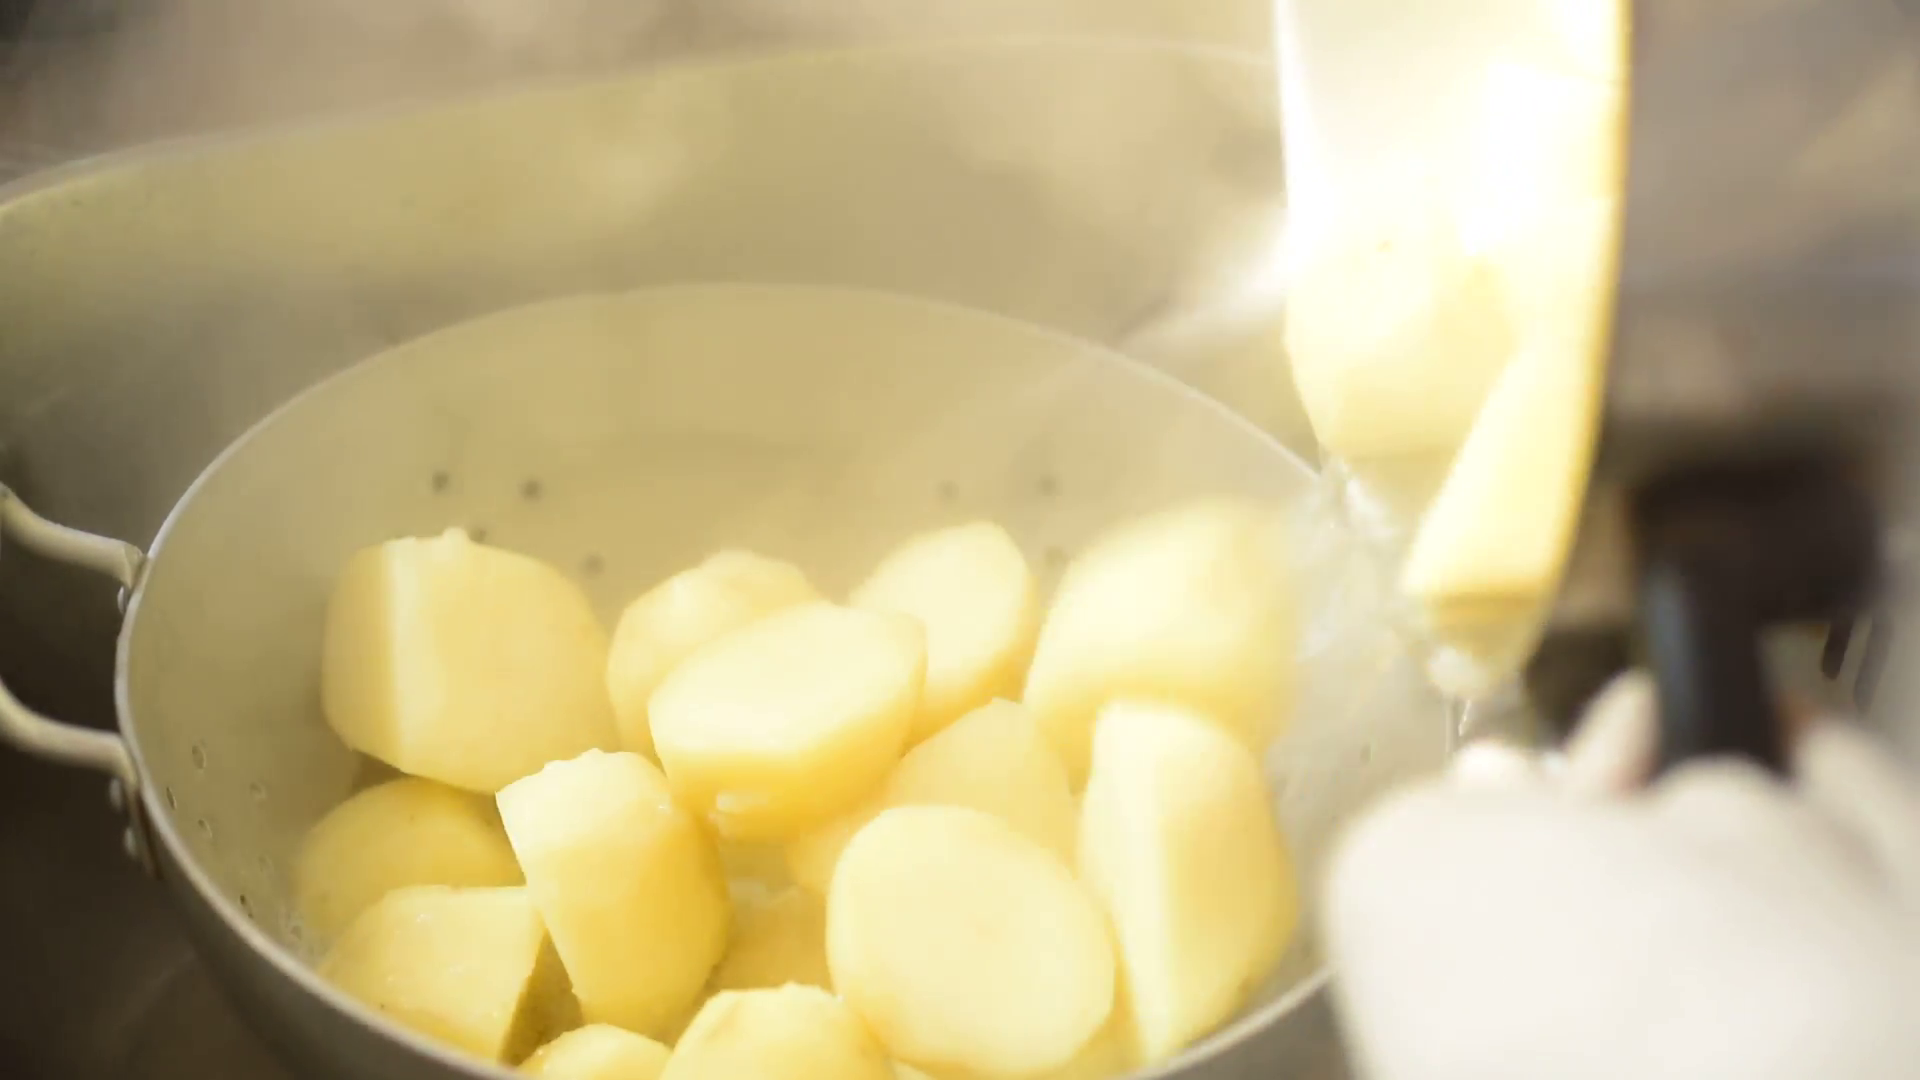boiled potatoes: (338, 527, 1304, 1062)
